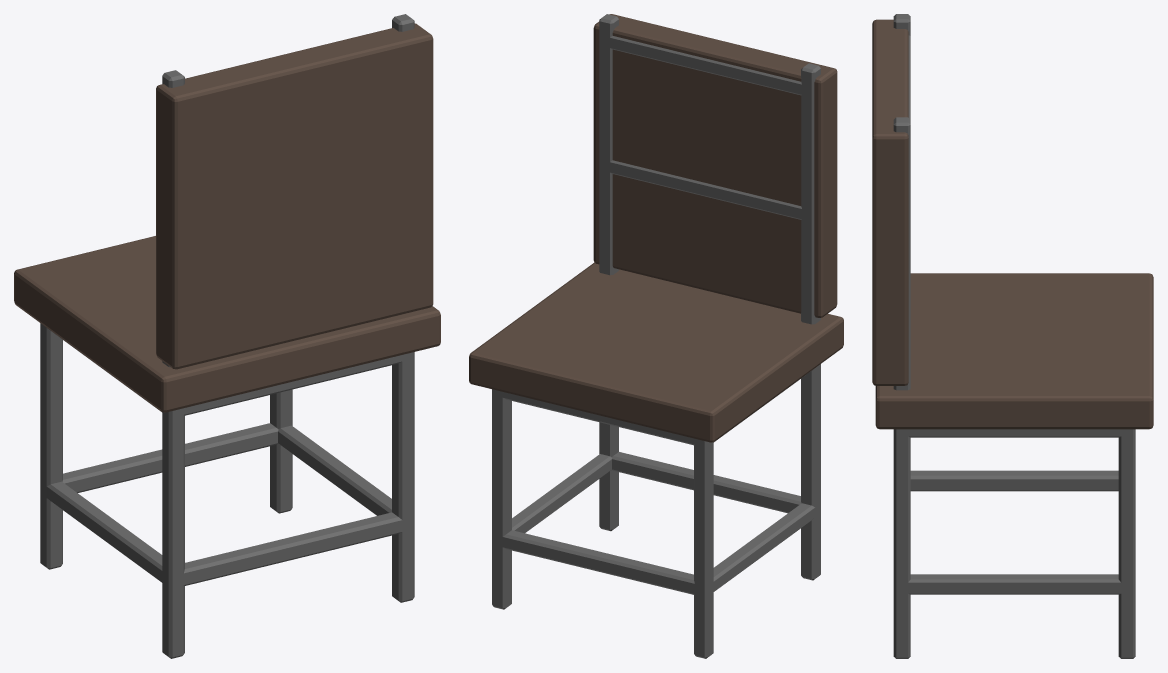
Rendered from chair_interrogation.fbx.
3 views of the same model, side by side, from view 1: azimuth 30°, elevation 25°; view 2: azimuth 150°, elevation 25°; view 3: azimuth 270°, elevation 25° (orthographic). The views are drawn at different scales.
Parts seen in each view (by area): view 1: chair_interrogation.back_pad, chair_interrogation.seat_pad, chair_interrogation.stretcher_B, chair_interrogation.leg_4, chair_interrogation.leg_3, chair_interrogation.leg_2, chair_interrogation.stretcher_F, chair_interrogation.stretcher_L, chair_interrogation.stretcher_R, chair_interrogation.leg_1, chair_interrogation.seat_rail_B; view 2: chair_interrogation.back_pad, chair_interrogation.seat_pad, chair_interrogation.leg_2, chair_interrogation.stretcher_F, chair_interrogation.leg_1, chair_interrogation.leg_4, chair_interrogation.back_upright_L, chair_interrogation.stretcher_B, chair_interrogation.back_upright_R, chair_interrogation.back_rail_mid, chair_interrogation.back_rail_top, chair_interrogation.stretcher_L (+3 smaller); view 3: chair_interrogation.seat_pad, chair_interrogation.back_pad, chair_interrogation.stretcher_L, chair_interrogation.stretcher_R, chair_interrogation.leg_3, chair_interrogation.leg_1, chair_interrogation.seat_rail_R, chair_interrogation.back_upright_R.
Part boxes in pixels (box(x1,y1,x2,y2)): chair_interrogation.back_pad: box(156, 23, 433, 369); chair_interrogation.seat_pad: box(14, 236, 440, 412); chair_interrogation.stretcher_B: box(164, 512, 414, 587); chair_interrogation.leg_4: box(162, 409, 184, 658); chair_interrogation.leg_3: box(392, 352, 414, 602); chair_interrogation.leg_2: box(40, 323, 62, 569); chair_interrogation.stretcher_F: box(40, 423, 278, 492); chair_interrogation.stretcher_L: box(40, 481, 183, 587); chair_interrogation.stretcher_R: box(278, 425, 412, 531); chair_interrogation.leg_1: box(270, 389, 292, 513); chair_interrogation.seat_rail_B: box(164, 353, 409, 417); chair_interrogation.back_pad: box(593, 14, 837, 317); chair_interrogation.seat_pad: box(469, 262, 843, 442); chair_interrogation.leg_2: box(694, 439, 713, 658); chair_interrogation.stretcher_F: box(492, 530, 713, 596); chair_interrogation.leg_1: box(492, 390, 511, 609); chair_interrogation.leg_4: box(801, 364, 820, 580); chair_interrogation.back_upright_L: box(801, 63, 820, 324); chair_interrogation.stretcher_B: box(611, 452, 820, 516); chair_interrogation.back_upright_R: box(599, 14, 618, 275); chair_interrogation.back_rail_mid: box(599, 159, 813, 221); chair_interrogation.back_rail_top: box(599, 34, 814, 97); chair_interrogation.stretcher_L: box(708, 503, 820, 595); chair_interrogation.seat_pad: box(875, 273, 1153, 429); chair_interrogation.back_pad: box(872, 19, 908, 385); chair_interrogation.stretcher_L: box(910, 470, 1118, 491); chair_interrogation.stretcher_R: box(908, 574, 1132, 594); chair_interrogation.leg_3: box(893, 429, 910, 658); chair_interrogation.leg_1: box(1118, 429, 1135, 658); chair_interrogation.seat_rail_R: box(896, 429, 1131, 437); chair_interrogation.back_upright_R: box(893, 117, 910, 390).
Size of the model in its own units: 0.45 by 0.8945 by 0.425.
